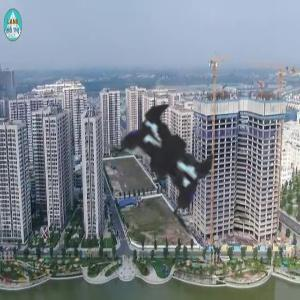drone: (38, 38, 289, 289)
